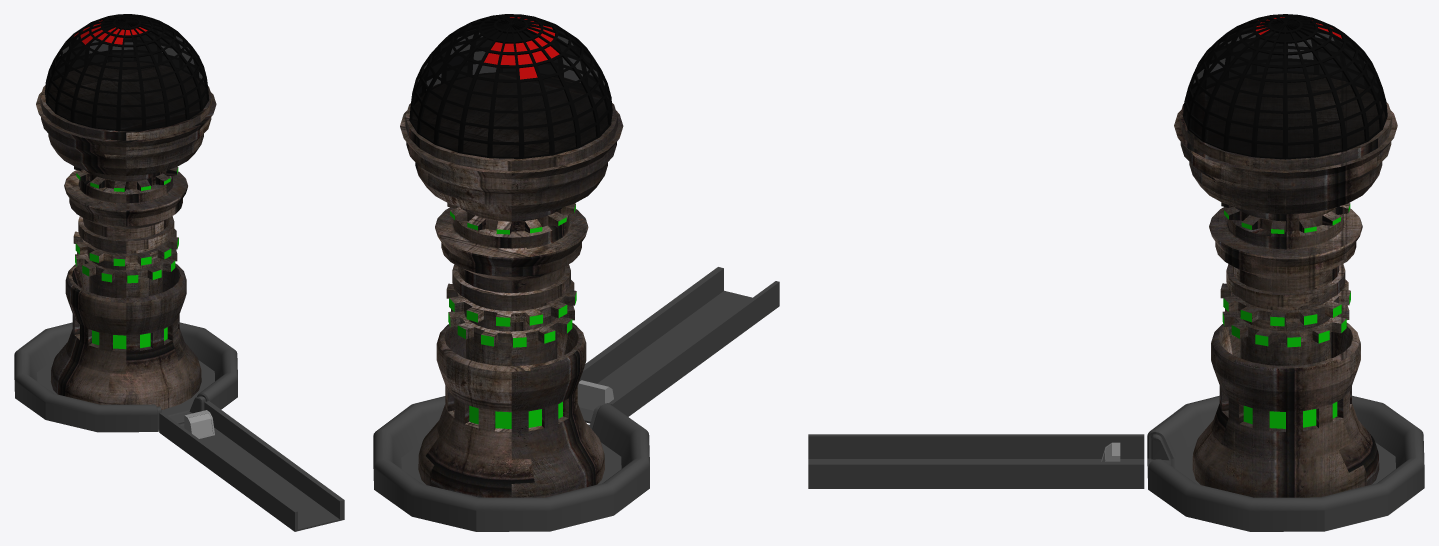
File: SM_T_PowerGenerator.fbx
The picture shows the model from 3 angles, left to right: view 1: azimuth 30°, elevation 25°; view 2: azimuth 150°, elevation 25°; view 3: azimuth 270°, elevation 25°; orthographic projection. The views are drawn at different scales.
Parts seen in each view (by area): view 1: polySurface168, polySurface170, polySurface169, polySurface171, polySurface172; view 2: polySurface168, polySurface170, polySurface169, polySurface171, polySurface172; view 3: polySurface168, polySurface170, polySurface171, polySurface169.
Part boxes in pixels (x1=…): polySurface168: x1=36, y1=62, x2=216, y2=409; polySurface170: x1=45, y1=14, x2=209, y2=131; polySurface169: x1=14, y1=322, x2=237, y2=432; polySurface171: x1=159, y1=401, x2=344, y2=531; polySurface172: x1=184, y1=410, x2=214, y2=438; polySurface168: x1=400, y1=73, x2=623, y2=497; polySurface170: x1=409, y1=14, x2=612, y2=158; polySurface169: x1=373, y1=396, x2=649, y2=531; polySurface171: x1=579, y1=267, x2=779, y2=423; polySurface172: x1=577, y1=380, x2=613, y2=410; polySurface168: x1=1174, y1=73, x2=1397, y2=497; polySurface170: x1=1183, y1=14, x2=1387, y2=159; polySurface171: x1=808, y1=434, x2=1144, y2=488; polySurface169: x1=1147, y1=395, x2=1424, y2=531.
Size of the model in its own units: 423 by 758 by 940.
7 materials, 1 textured.
